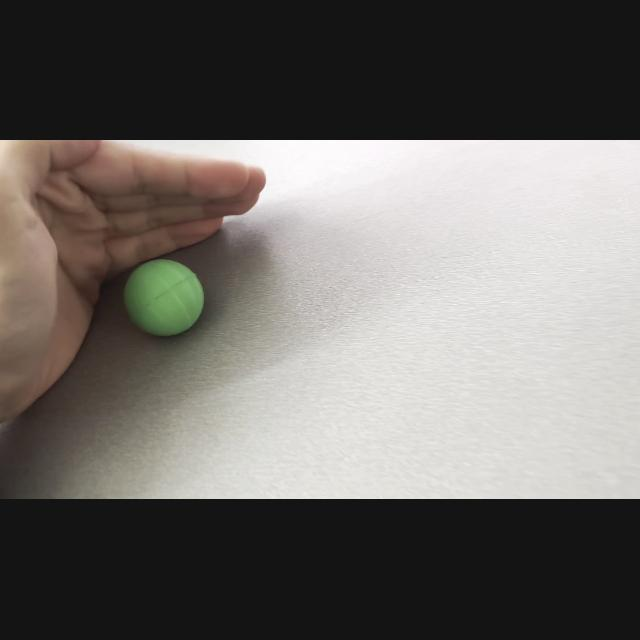objects: (120, 255, 210, 341)
